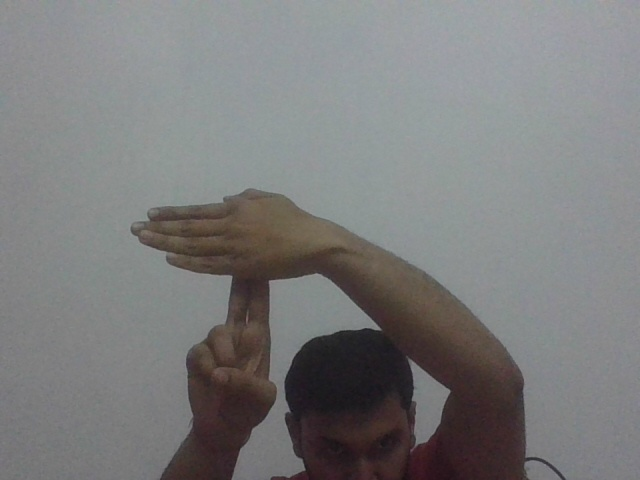N: (126, 186, 315, 326)
